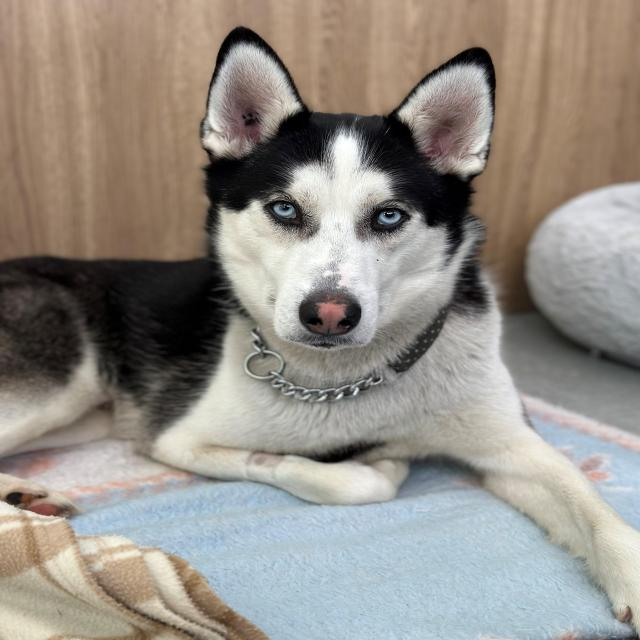siberian_husky_dog: (174, 18, 513, 409)
